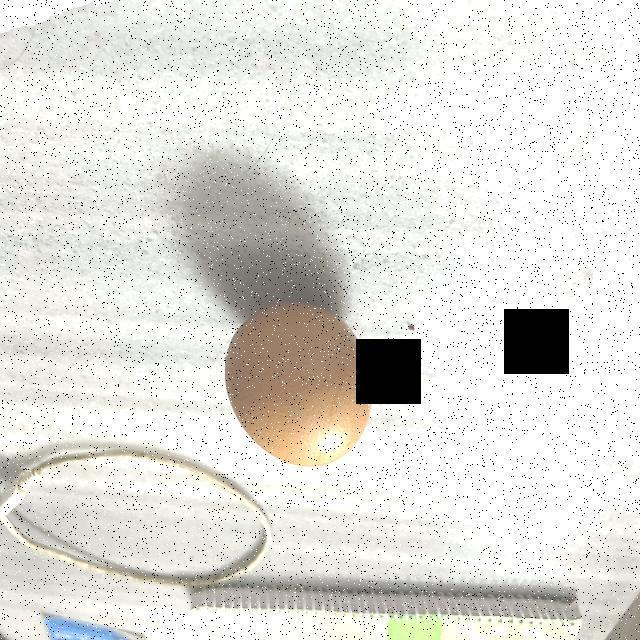egg: (222, 299, 372, 469)
